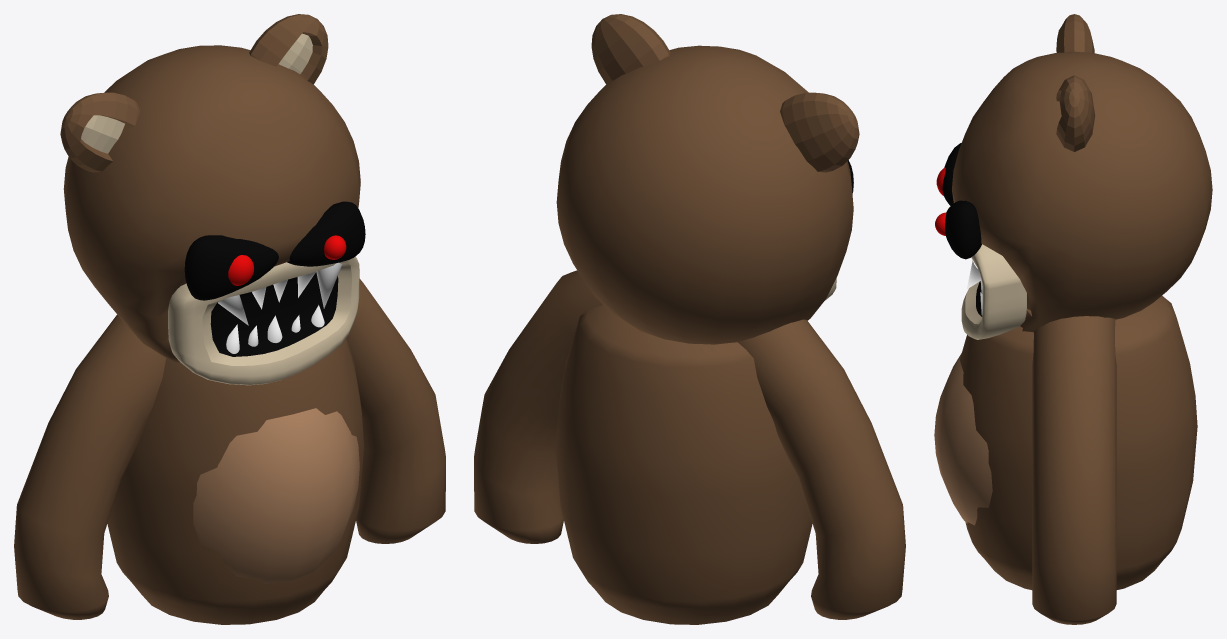
Rendered from BearRevamped.fbx.
3 renders of one model, left to right at view 1: azimuth 30°, elevation 25°; view 2: azimuth 150°, elevation 25°; view 3: azimuth 270°, elevation 25°, orthographic. The views are drawn at different scales.
Visible parts, largest first — view 1: pSphere1, pSphere9, pCylinder1, pSphere10, pCylinder2, pCube1, pSphere4, pSphere5, pSphere3, pSphere7, pSphere6, pCone4; view 2: pSphere1, pSphere9, pCylinder1, pCylinder2, pSphere4, pSphere3; view 3: pSphere1, pSphere9, pCylinder2, pSphere10, pCube1, pSphere3, pSphere7, pSphere4, pSphere5.
Part boxes in pixels (box(x1,y1,x2,y2)): pSphere1: box(63, 45, 360, 362); pSphere9: box(107, 338, 363, 624); pCylinder1: box(14, 314, 166, 619); pSphere10: box(193, 408, 359, 584); pCylinder2: box(346, 279, 445, 543); pCube1: box(168, 256, 359, 385); pSphere4: box(60, 92, 139, 172); pSphere5: box(184, 235, 278, 300); pSphere3: box(249, 14, 328, 84); pSphere7: box(287, 201, 365, 266); pSphere6: box(228, 255, 254, 285); pCone4: box(316, 262, 342, 308); pSphere1: box(556, 45, 853, 344); pSphere9: box(556, 305, 812, 624); pCylinder1: box(738, 319, 905, 619); pCylinder2: box(474, 270, 602, 543); pSphere4: box(780, 92, 859, 172); pSphere3: box(591, 14, 670, 84); pSphere1: box(952, 51, 1212, 332); pSphere9: box(960, 296, 1197, 589); pCylinder2: box(1032, 316, 1116, 624); pSphere10: box(934, 353, 992, 525); pCube1: box(961, 244, 1026, 339); pSphere3: box(1056, 75, 1095, 151); pSphere7: box(945, 200, 981, 259); pSphere4: box(1056, 14, 1094, 53); pSphere5: box(942, 143, 961, 205).
Bounding box in the file's own units: 9 × 11.7 × 5.63.
